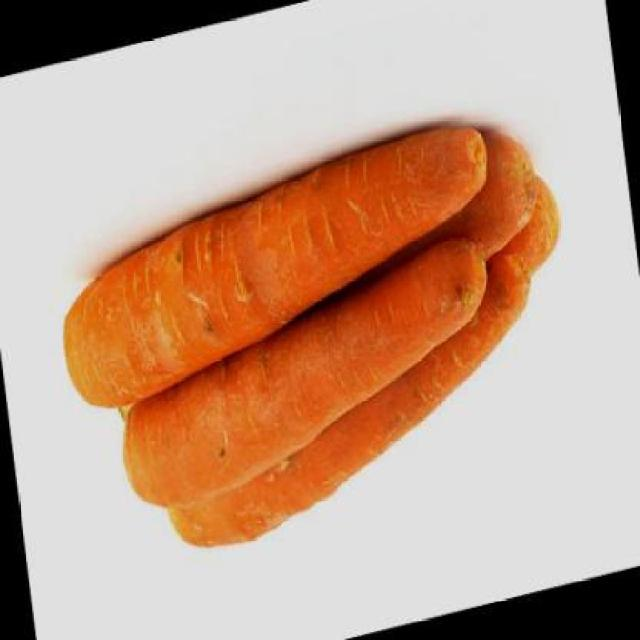carrot: (48, 116, 506, 422), (144, 243, 556, 559), (104, 227, 505, 519), (465, 114, 543, 260), (479, 170, 564, 292)
